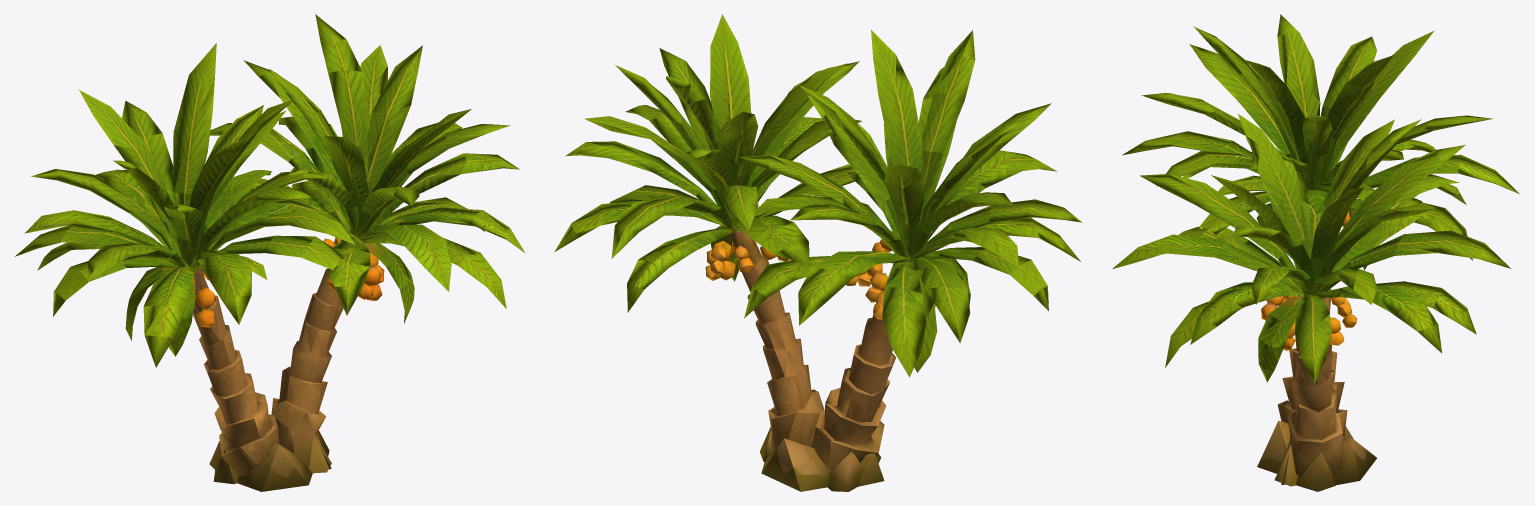
The picture shows the model from 3 angles, left to right: view 1: azimuth 30°, elevation 25°; view 2: azimuth 150°, elevation 25°; view 3: azimuth 270°, elevation 25°; orthographic projection. The views are drawn at different scales.
Bounding box in the file's own units: 1 × 0.8734 × 0.8066.
Materials: 1 (1 with a texture image).
